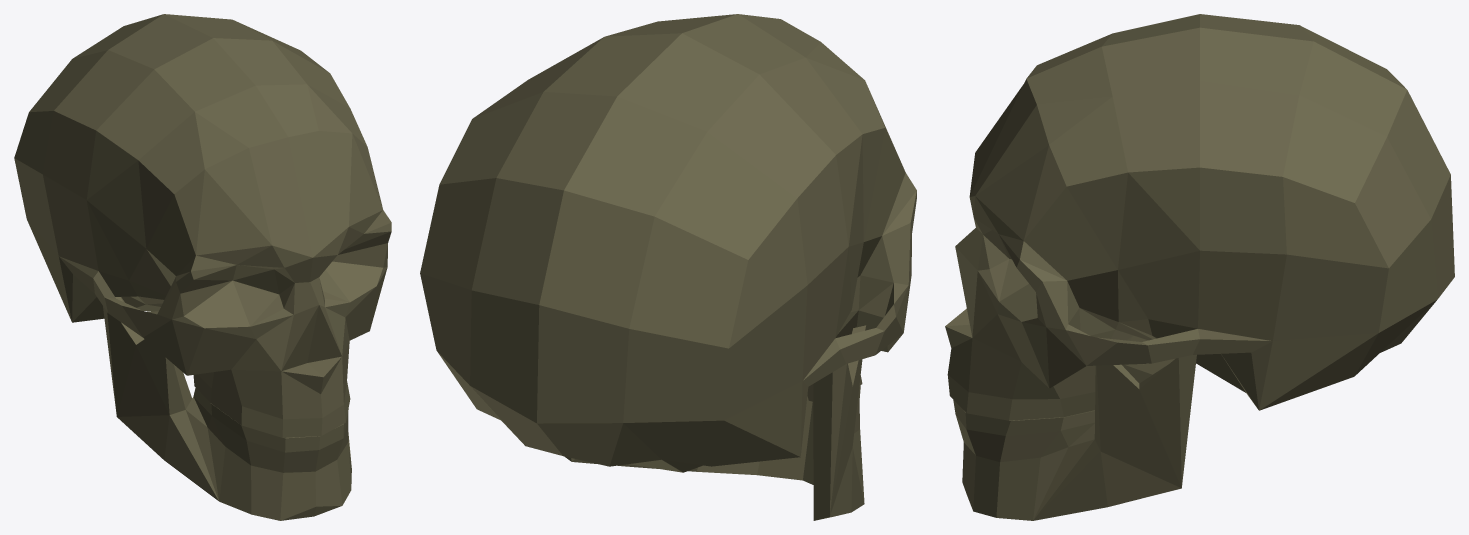
The model's file is skullmesh1.obj.
The picture shows the model from 3 angles, left to right: view 1: azimuth 30°, elevation 25°; view 2: azimuth 150°, elevation 25°; view 3: azimuth 270°, elevation 25°; orthographic projection. The views are drawn at different scales.
Parts seen in each view (by area): view 1: Cube, Cube.001; view 2: Cube, Cube.001; view 3: Cube, Cube.001.
Part boxes in pixels (<box>): Cube: <box>14,14,391,437</box>; Cube.001: <box>103,297,351,520</box>; Cube: <box>420,14,916,472</box>; Cube.001: <box>564,325,866,520</box>; Cube: <box>945,14,1454,420</box>; Cube.001: <box>953,335,1196,520</box>.
Size of the model in its own units: 1.36 by 1.99 by 1.95.
